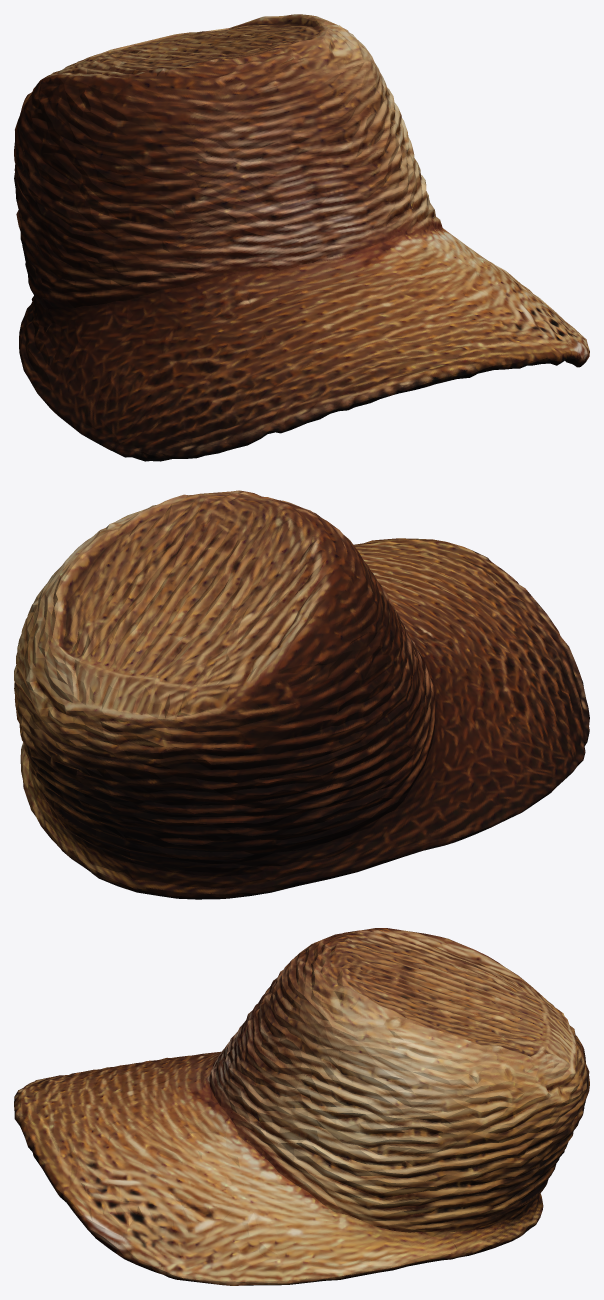
Rendered from woven-reed-hat-aged-hyperrealistic-furniture.jpeg.glb.
3 renders of one model, top to bottom at view 1: azimuth 30°, elevation 25°; view 2: azimuth 150°, elevation 25°; view 3: azimuth 270°, elevation 25°, orthographic. The views are drawn at different scales.
Parts seen in each view (by area): view 1: world; view 2: world; view 3: world.
Part boxes in pixels (x1,y1,x2,y2): world: (14,14,589,461); world: (14,490,589,899); world: (14,928,589,1285).
Size of the model in its own units: 0.8027 by 0.4924 by 1.
Materials: 1 (1 with a texture image).
